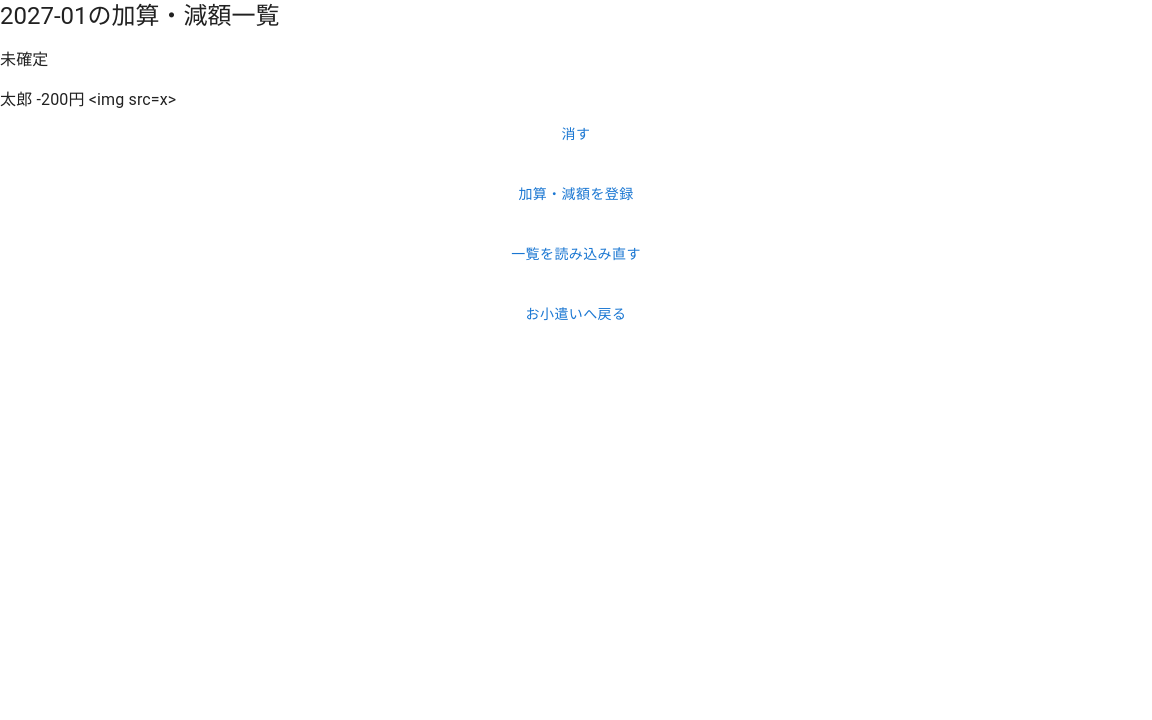
Test: 独立した訂正一覧と確認 › 削除応答不明時に再試行できる
Click the button with test id "adjustment-delete".
click(576, 134)  # box x1=0 y1=112 x2=1151 y2=156
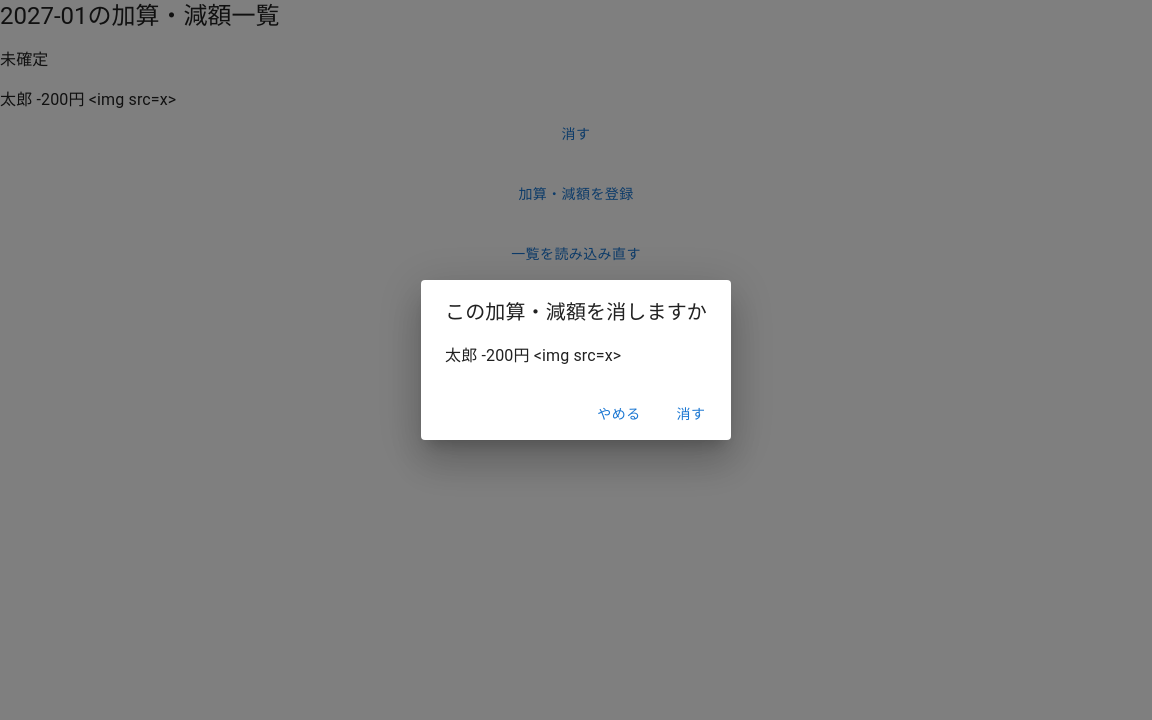
Click the button with test id "adjustment-delete-confirm".
click(691, 414)  # box x1=659 y1=396 x2=723 y2=432
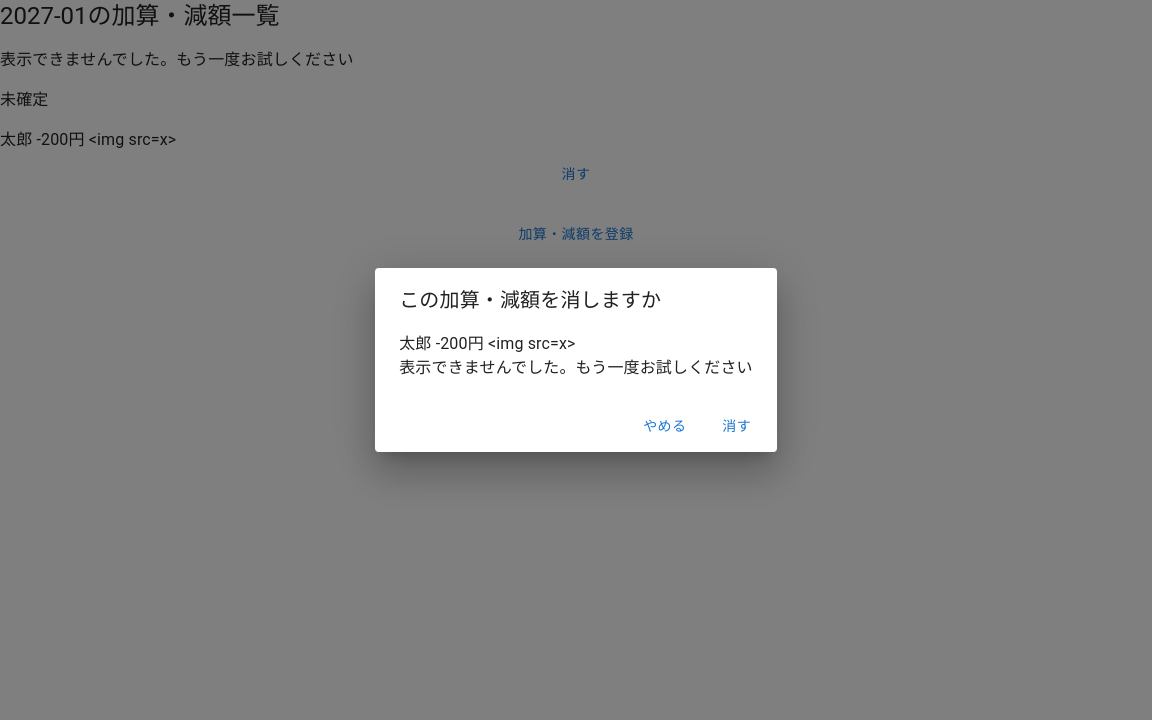
Expected: the button with test id "adjustment-delete-confirm" is enabled, x1=705 y1=408 x2=769 y2=444
Expected: the message "表示できませんでした。もう一度お試しください" is shown, x1=399 y1=356 x2=753 y2=380
